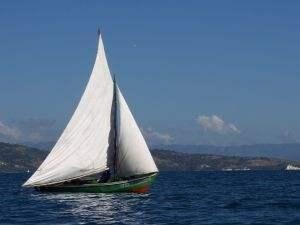fanchuan: (24, 26, 161, 197)
